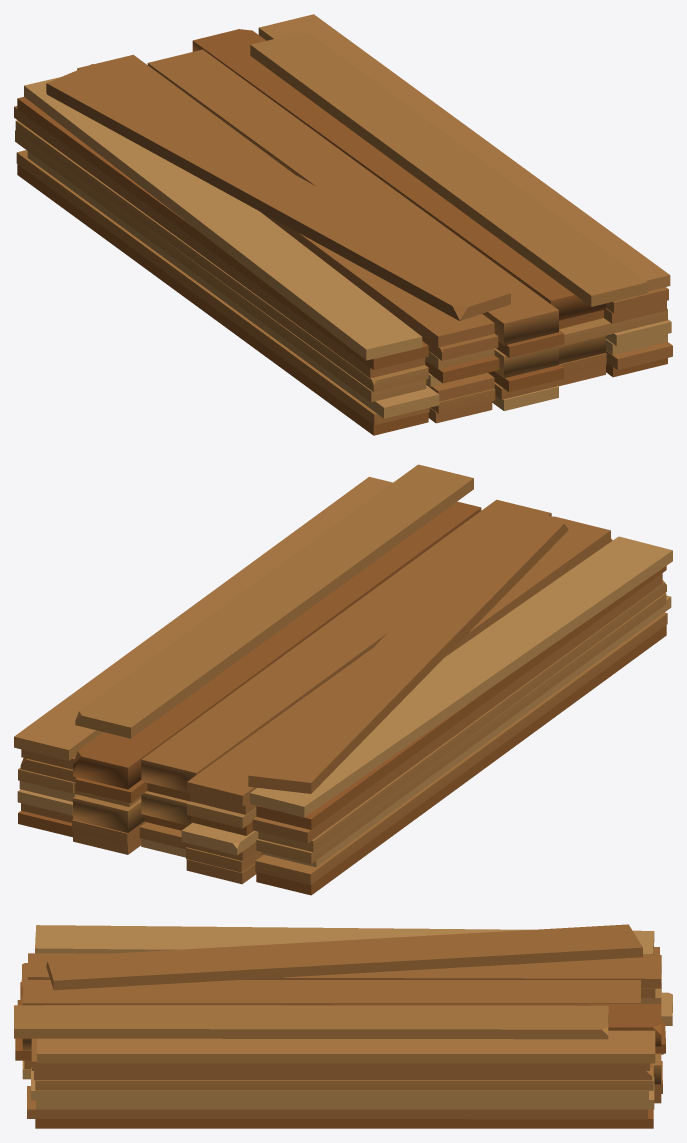
Rendered from Planks_2.fbx.
The picture shows the model from 3 angles, top to bottom: view 1: azimuth 30°, elevation 25°; view 2: azimuth 150°, elevation 25°; view 3: azimuth 270°, elevation 25°; orthographic projection. The views are drawn at different scales.
Visible parts, largest first — view 1: Planks_2; view 2: Planks_2; view 3: Planks_2.
Part boxes in pixels (box(x1,y1,x2,y2)): Planks_2: box(14, 14, 672, 435); Planks_2: box(14, 464, 672, 895); Planks_2: box(14, 924, 672, 1128).
Size of the model in its own units: 133 by 41.32 by 288.
